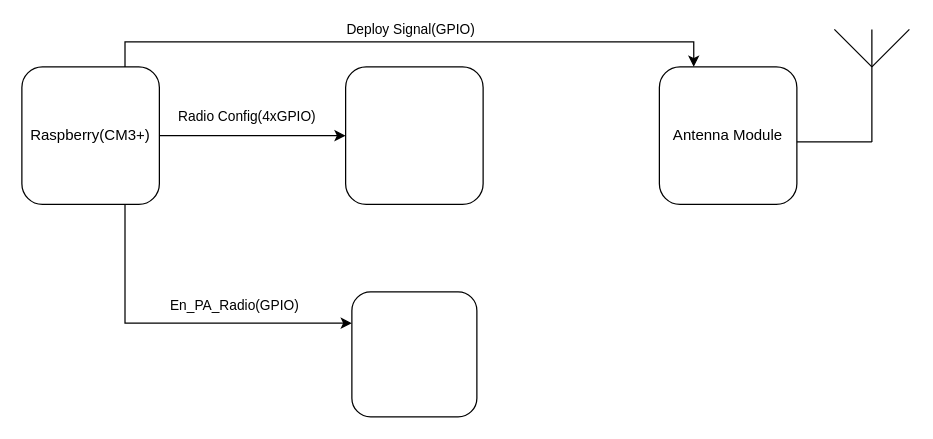
The diagram is 933 pixels wide and 439 high, and some of its shapes have lost their labels. Here are the shapes that lost their labels. From the top down, the box of each, then its label:
(344, 66, 483, 204): TT&C
(351, 291, 477, 417): EPS
